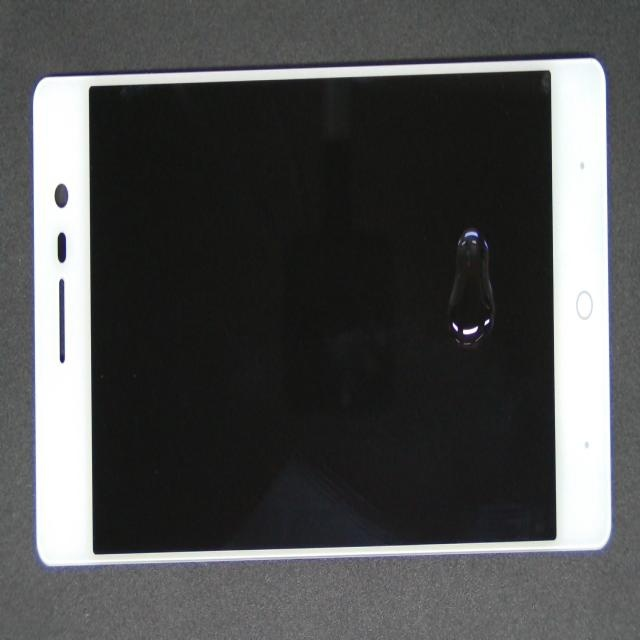oil: (255, 119, 640, 352)
